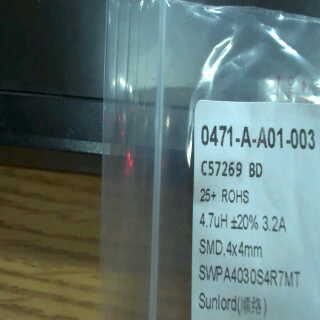4.7uH: (194, 210, 229, 231)
